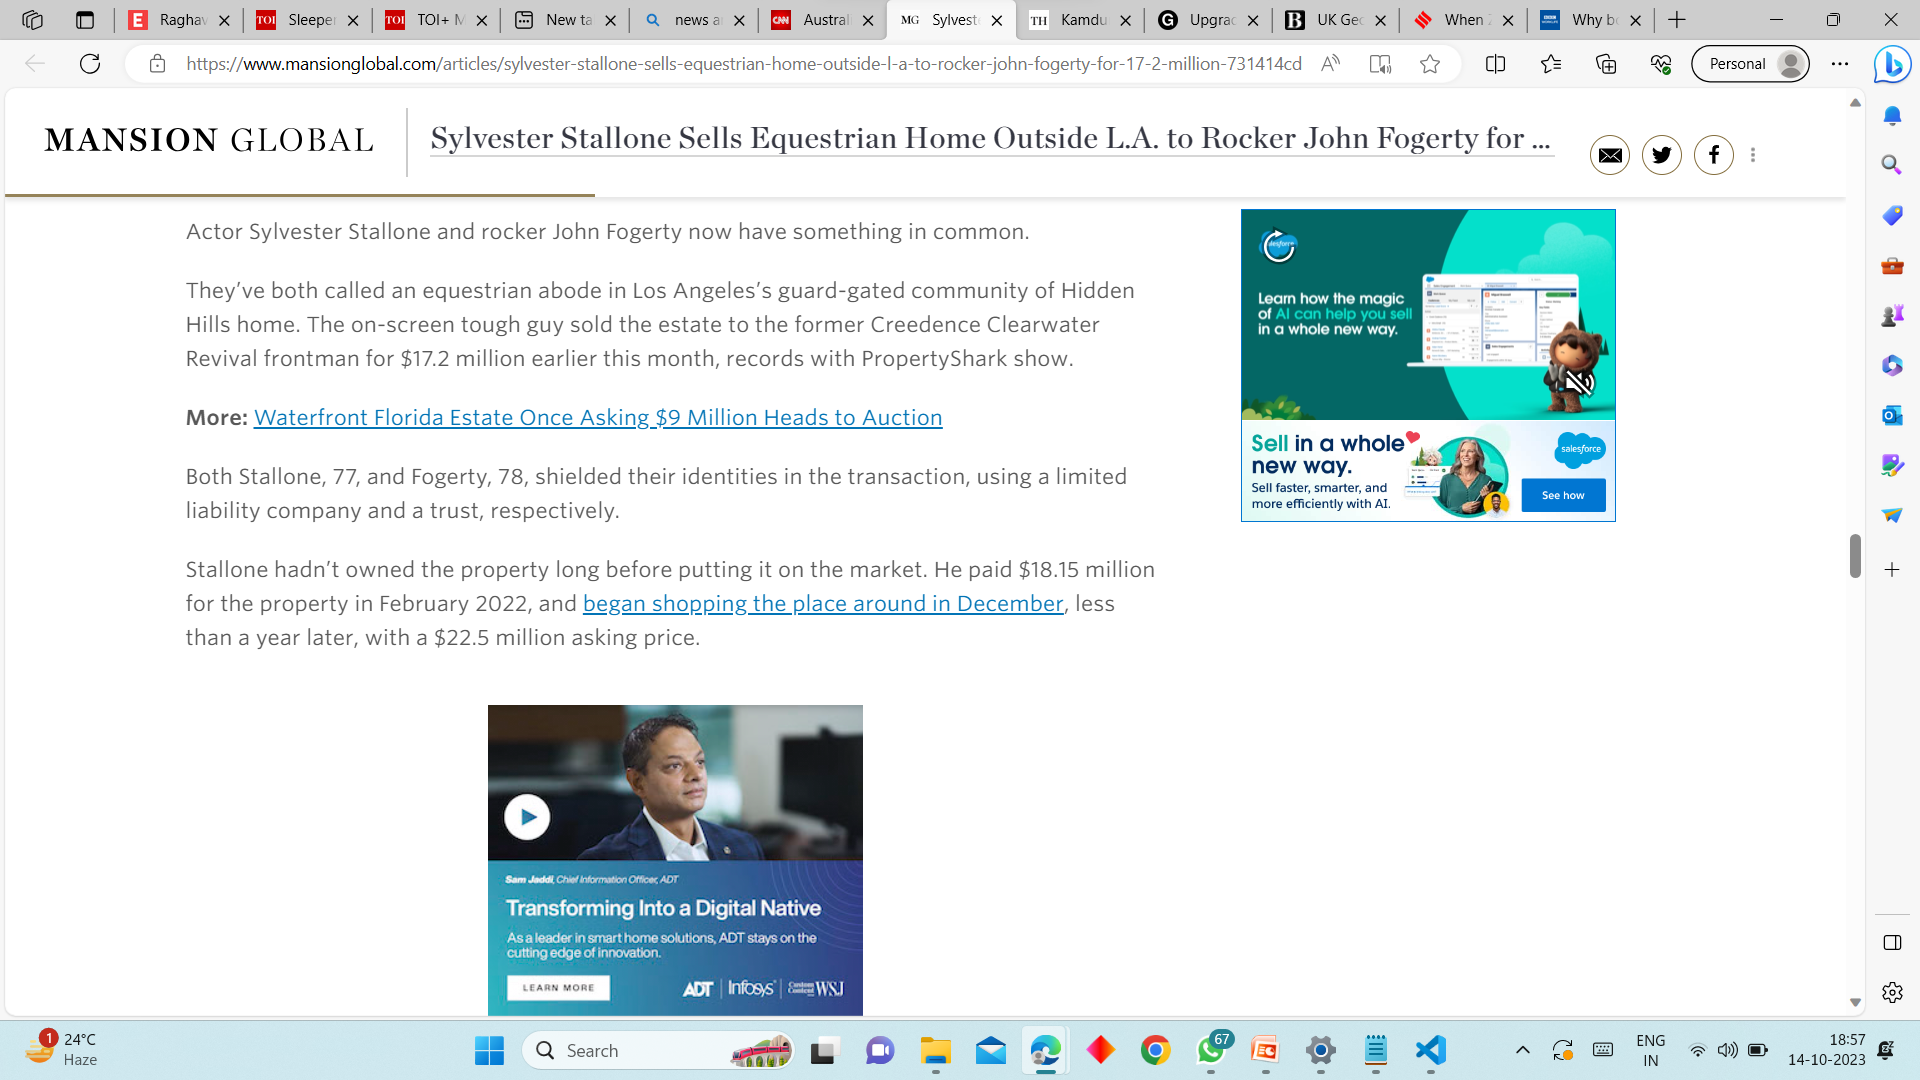Image: (1232, 208, 1648, 537), (488, 698, 872, 1010), (1636, 125, 1687, 177), (1695, 128, 1738, 179), (1590, 128, 1633, 173), (1746, 132, 1759, 173)
Paragraph: (174, 268, 1138, 380), (186, 556, 1179, 659), (418, 109, 1565, 181), (183, 460, 1167, 533), (183, 215, 1042, 257), (186, 401, 964, 438), (29, 112, 367, 164)
